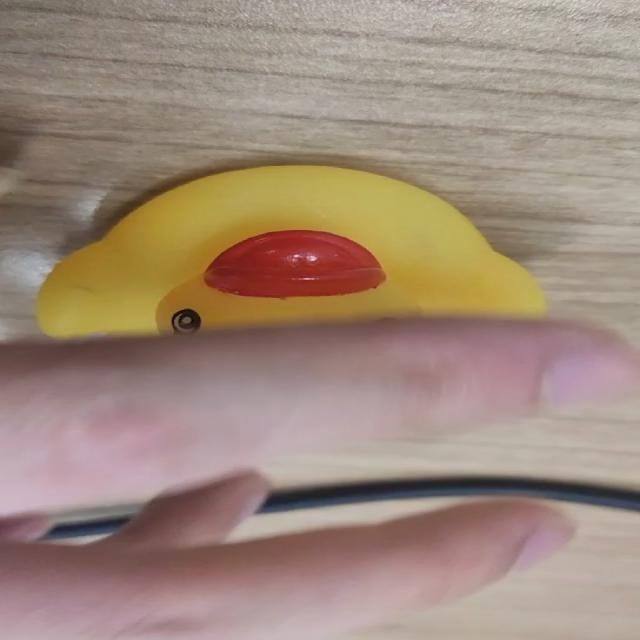rubber-duck: (36, 165, 544, 335)
